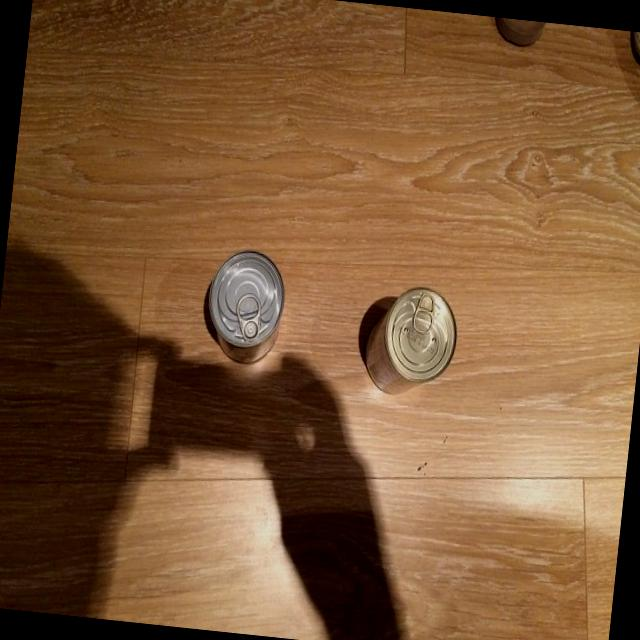Recycle: (359, 280, 461, 400), (200, 247, 288, 368)
